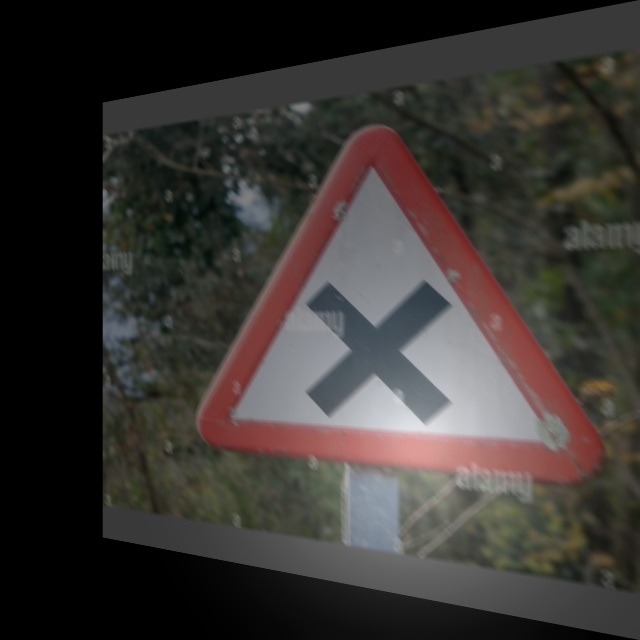Cross_Road: (201, 93, 601, 487)
